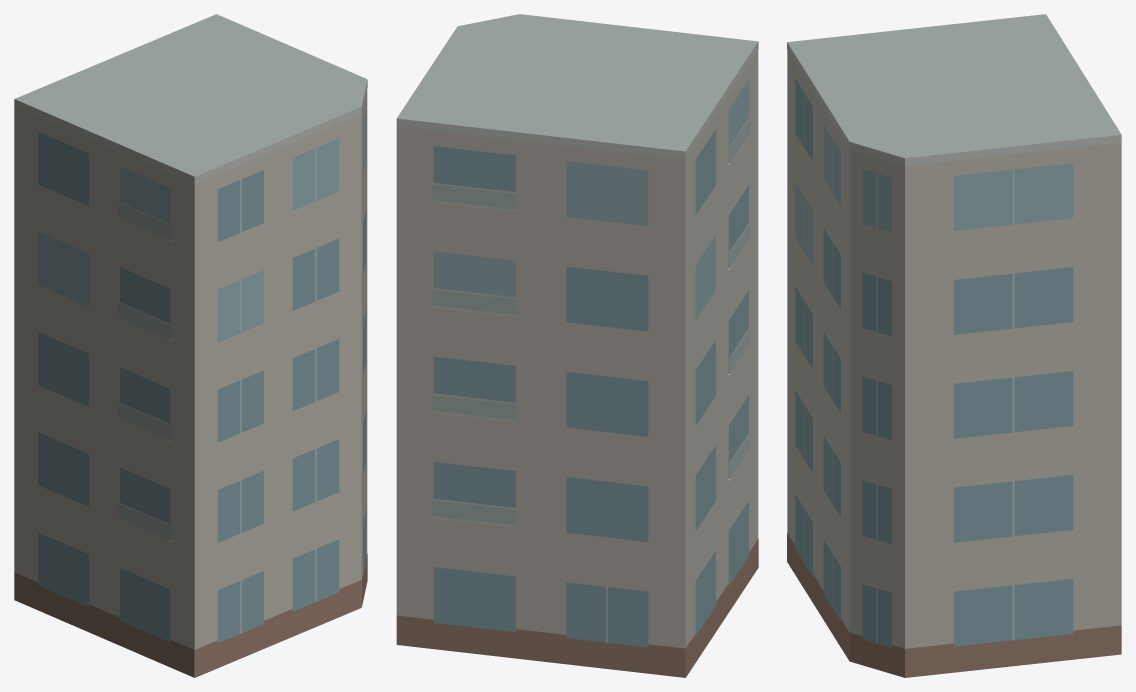
The model's file is survey-upis-32898541.glb.
3 renders of one model, left to right at view 1: azimuth 30°, elevation 25°; view 2: azimuth 150°, elevation 25°; view 3: azimuth 270°, elevation 25°, orthographic. The views are drawn at different scales.
Visible parts, largest first — view 1: survey-upis-32898541.tmp; view 2: survey-upis-32898541.tmp; view 3: survey-upis-32898541.tmp.
Part boxes in pixels (x1=…): survey-upis-32898541.tmp: x1=14, y1=14, x2=367, y2=677; survey-upis-32898541.tmp: x1=396, y1=14, x2=758, y2=677; survey-upis-32898541.tmp: x1=787, y1=14, x2=1121, y2=677.
Bounding box in the file's own units: 9.72 × 16.3 × 9.52.
